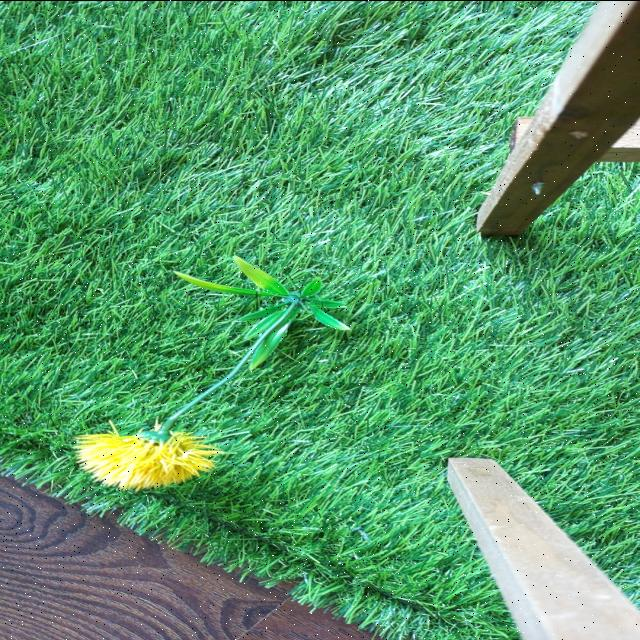base: (177, 256, 345, 370)
flower: (80, 421, 212, 487)
